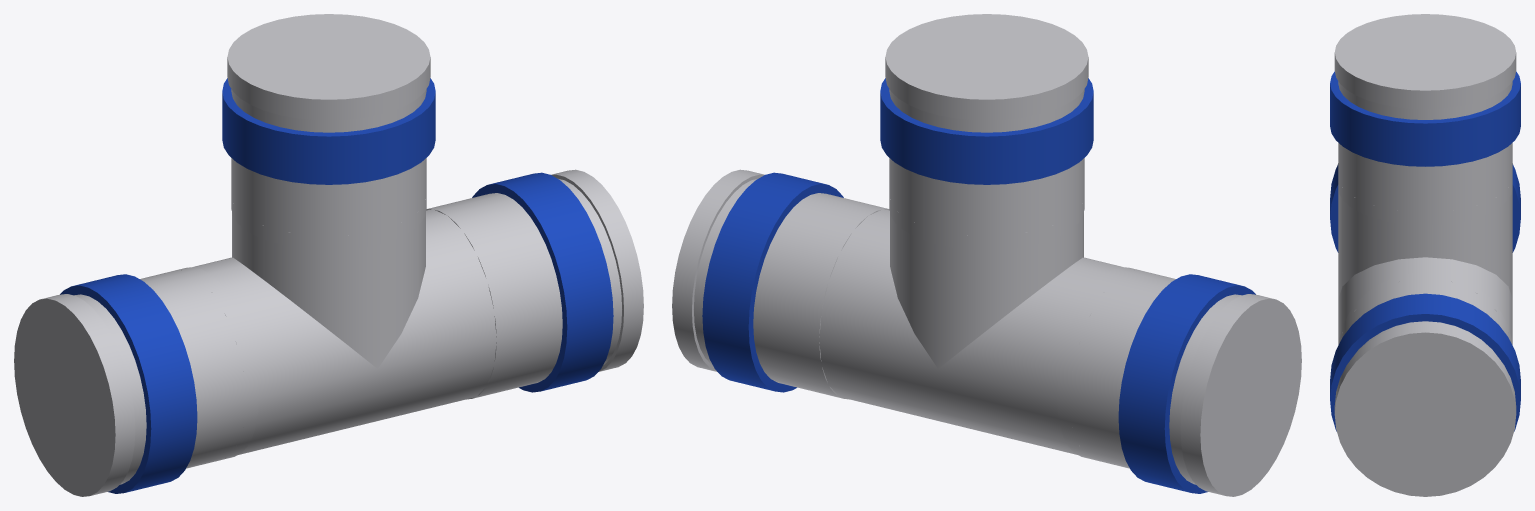
File: fit22_tee.glb
3 renders of one model, left to right at view 1: azimuth 30°, elevation 25°; view 2: azimuth 150°, elevation 25°; view 3: azimuth 270°, elevation 25°, orthographic. The views are drawn at different scales.
Visible parts, largest first — view 1: тело, раструб лев тело, раструб отв тело, раструб пр тело, тело.001, раструб лев кромка, раструб пр кольцо, раструб отв кольцо, раструб лев кольцо, раструб отв кромка, раструб пр кромка; view 2: тело, раструб отв тело, раструб лев кромка, раструб лев тело, раструб пр тело, тело.001, раструб пр кольцо, раструб отв кольцо, раструб лев кольцо, раструб отв кромка, раструб пр кромка; view 3: раструб пр тело, раструб пр кромка, раструб отв тело, раструб отв кольцо, тело.001, раструб отв кромка, раструб пр кольцо, тело, раструб лев кольцо.
Boxes of the visible parts, x1,y1,x2,y2 form: тело: (181,206,507,458); раструб лев тело: (16,267,258,492); раструб отв тело: (231,16,426,250); раструб пр тело: (426,179,621,399); тело.001: (232,199,425,368); раструб лев кромка: (14,294,135,496); раструб пр кольцо: (472,172,613,392); раструб отв кольцо: (222,78,435,184); раструб лев кольцо: (60,274,197,493); раструб отв кромка: (227,14,430,120); раструб пр кромка: (551,169,643,371); тело: (808,206,1134,458); раструб отв тело: (889,15,1084,250); раструб лев кромка: (1180,294,1301,496); раструб лев тело: (1057,267,1299,492); раструб пр тело: (694,179,889,399); тело.001: (890,199,1083,368); раструб пр кольцо: (702,172,843,392); раструб отв кольцо: (880,78,1093,184); раструб лев кольцо: (1118,274,1255,493); раструб отв кромка: (885,14,1088,120); раструб пр кромка: (672,169,764,371); раструб пр тело: (1338,272,1512,493); раструб пр кромка: (1334,324,1516,496); раструб отв тело: (1338,15,1512,224); раструб отв кольцо: (1330,71,1520,166); тело.001: (1338,187,1512,298); раструб отв кромка: (1334,14,1516,109); раструб пр кольцо: (1330,293,1520,431); тело: (1338,257,1512,344); раструб лев кольцо: (1330,164,1520,252).
Bounding box in the file's own units: 0.08 × 0.054 × 0.028.
